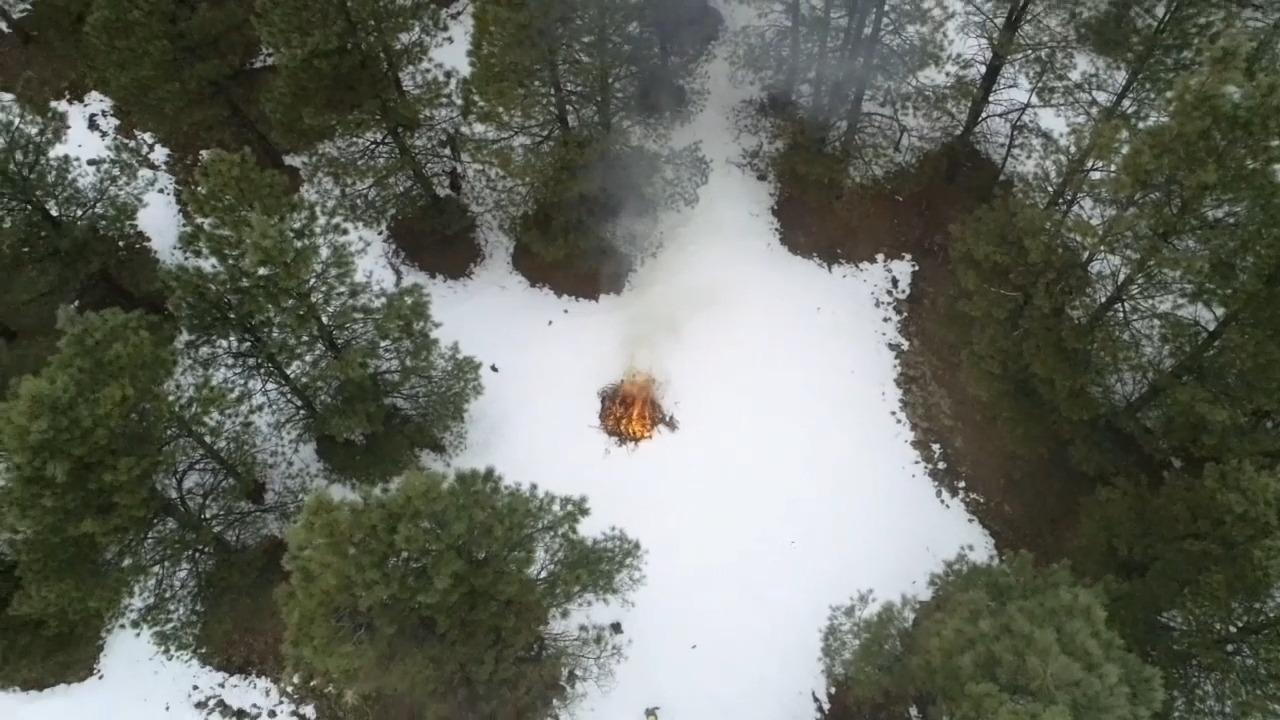fire: (598, 361, 663, 441)
smoke: (714, 0, 910, 130)
